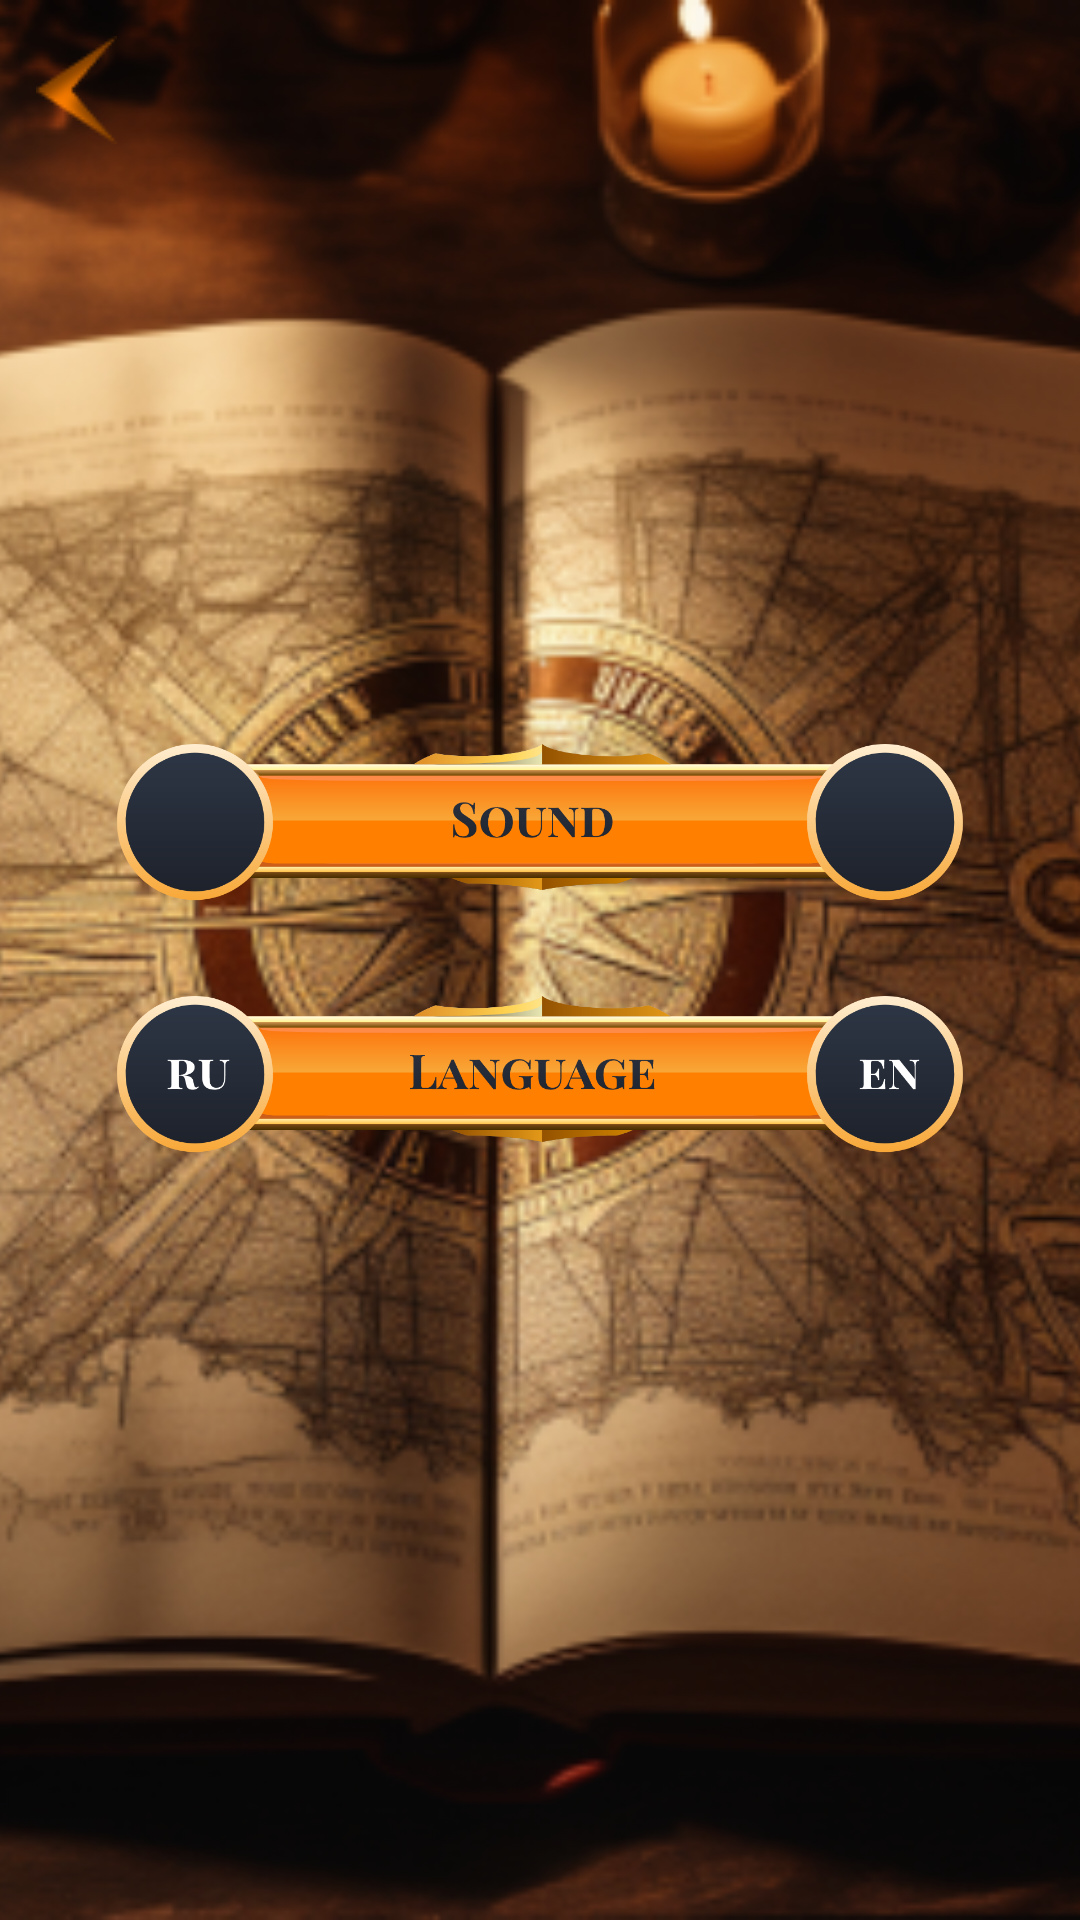

Where to tap for icons on this 1080 x 1920 app screen, as (x,y):
back: (76,90)
